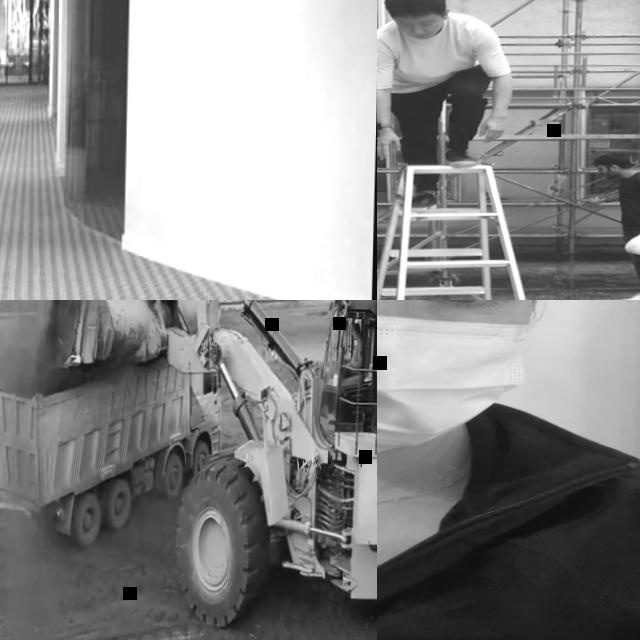Hardhat: (621, 229, 640, 259)
Mask: (377, 300, 545, 457)
NO-Hardhat: (382, 0, 447, 18), (592, 153, 632, 169), (354, 322, 362, 333)
NO-Mask: (400, 26, 445, 40), (600, 169, 620, 180), (352, 334, 357, 341)
NO-Safety Vest: (377, 423, 640, 640), (382, 11, 484, 96), (619, 173, 640, 235), (352, 340, 362, 364)
Person: (377, 300, 640, 640), (377, 0, 517, 214), (578, 151, 640, 300), (343, 321, 363, 376)
machinery: (34, 300, 377, 640), (0, 313, 224, 554), (334, 300, 377, 415)
